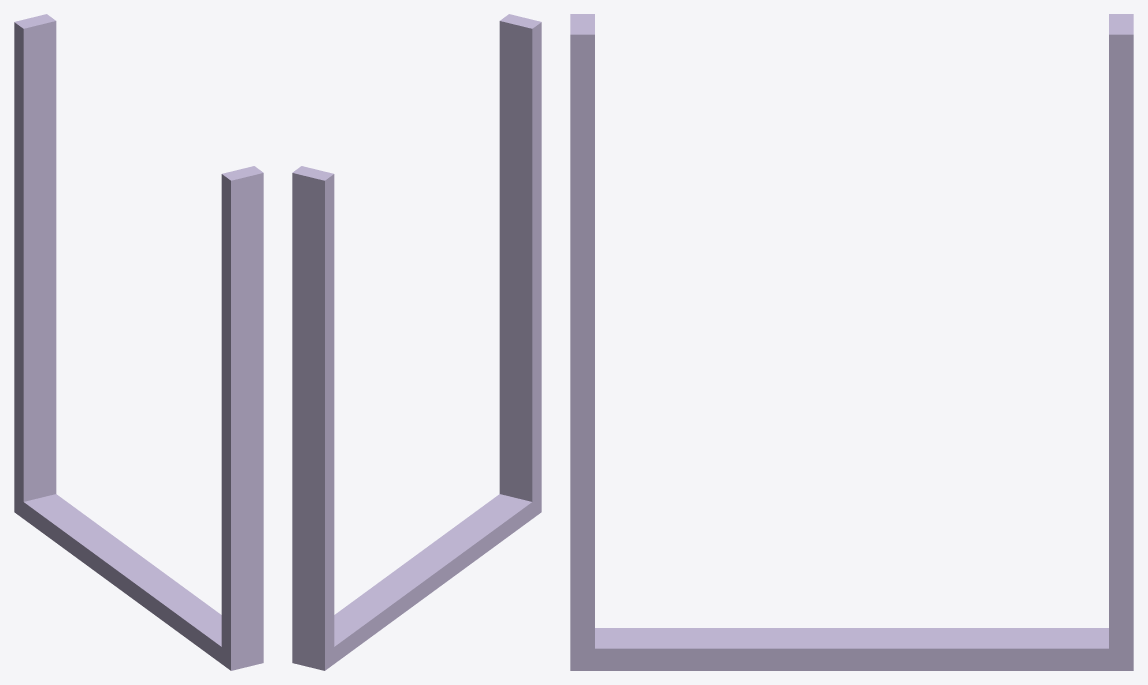
File: ElevatorMiddle.dae
The picture shows the model from 3 angles, left to right: view 1: azimuth 30°, elevation 25°; view 2: azimuth 150°, elevation 25°; view 3: azimuth 270°, elevation 25°; orthographic projection. The views are drawn at different scales.
Visible parts, largest first — view 1: MiddleStage; view 2: MiddleStage; view 3: MiddleStage.
Part boxes in pixels (<box>): MiddleStage: <box>14,14,263,670</box>; MiddleStage: <box>292,14,541,670</box>; MiddleStage: <box>570,14,1133,670</box>.
Size of the model in its own units: 0.0508 by 0.5842 by 0.7281.
